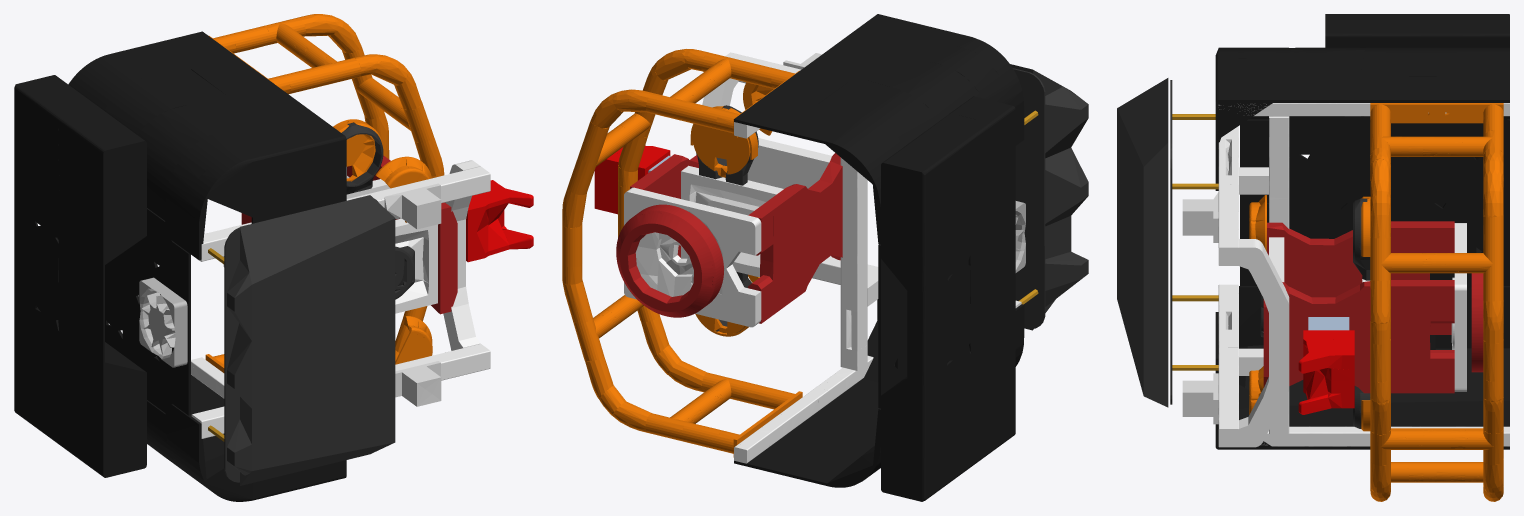
File: CHEST_LINK2_mesh.dae
3 renders of one model, left to right at view 1: azimuth 30°, elevation 25°; view 2: azimuth 150°, elevation 25°; view 3: azimuth 270°, elevation 25°, orthographic. The views are drawn at different scales.
Parts seen in each view (by area): view 1: CHEST_LINK2 (×25); view 2: CHEST_LINK2 (×28); view 3: CHEST_LINK2 (×33).
Boxes of the visible parts, x1,y1,x2,y2 form: CHEST_LINK2 (×25): (14,14,533,501); CHEST_LINK2 (×28): (562,14,1088,501); CHEST_LINK2 (×33): (1117,14,1509,501).
Size of the model in its own units: 0.4816 by 0.376 by 0.383.
